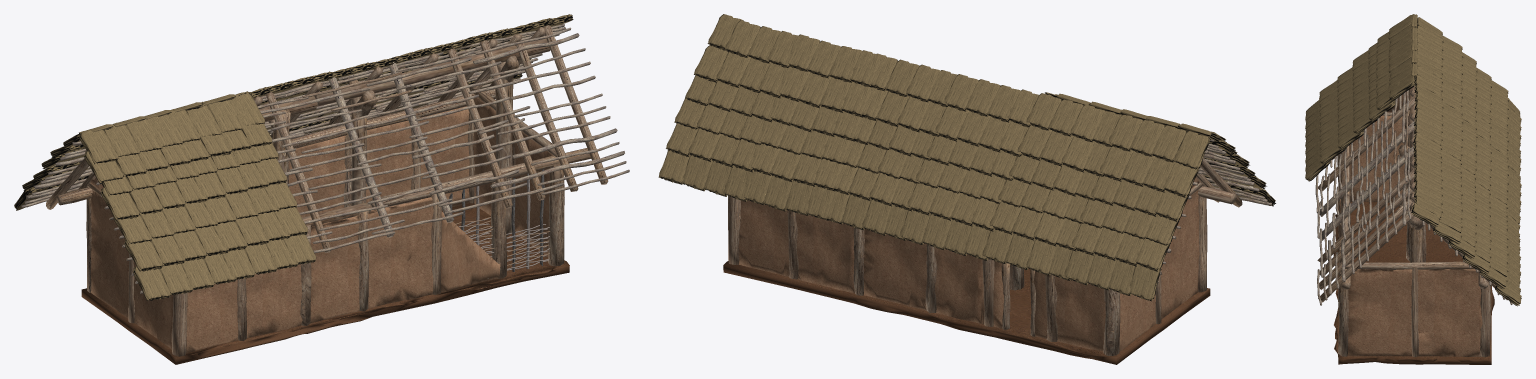
File: rekonstrukce-kj.glb
3 renders of one model, left to right at view 1: azimuth 30°, elevation 25°; view 2: azimuth 150°, elevation 25°; view 3: azimuth 270°, elevation 25°, orthographic. The views are drawn at different scales.
Parts seen in each view (by area): view 1: Cube.002, Cube.008, Cube.003, Cube.005, Cube.001, Cube, Cube.004, Cube.006, Cylinder.051, Cylinder.226, Cylinder.220, Cylinder.069 (+68 smaller); view 2: Cube.006, Cube.005, Cube.008, Cube.001, Cube.007, Cylinder.079, Plane.387, Cylinder.218, Plane.406, Plane.267, Cylinder.081, Plane.386 (+139 smaller); view 3: Cube, Cube.008, Cube.001, Cylinder.090, Cylinder.229, Cylinder.233, Cylinder.081, Cylinder.220, Cylinder.256, Cylinder.224, Cylinder.230, Cylinder.231 (+61 smaller).
Part boxes in pixels (left/top/right/bottom): Cube.002: left=310, top=197, right=433, bottom=322; Cube.008: left=81, top=203, right=569, bottom=364; Cube.003: left=186, top=264, right=302, bottom=352; Cube.005: left=366, top=106, right=469, bottom=207; Cube.001: left=90, top=190, right=172, bottom=349; Cube: left=472, top=94, right=553, bottom=256; Cube.004: left=441, top=211, right=500, bottom=292; Cube.006: left=289, top=135, right=345, bottom=217; Cylinder.051: left=314, top=38, right=550, bottom=106; Cylinder.226: left=370, top=148, right=591, bottom=209; Cylinder.220: left=548, top=163, right=564, bottom=266; Cylinder.069: left=290, top=89, right=495, bottom=148; Cube.006: left=863, top=228, right=984, bottom=324; Cube.005: left=738, top=200, right=854, bottom=293; Cube.008: left=723, top=261, right=1210, bottom=364; Cube.001: left=1119, top=190, right=1199, bottom=351; Cube.007: left=993, top=260, right=1105, bottom=351; Cylinder.079: left=1103, top=289, right=1120, bottom=355; Plane.387: left=1173, top=130, right=1209, bottom=169; Cylinder.218: left=1198, top=195, right=1207, bottom=292; Plane.406: left=724, top=20, right=760, bottom=57; Plane.267: left=1129, top=264, right=1161, bottom=301; Cylinder.081: left=728, top=195, right=740, bottom=264; Plane.386: left=1151, top=125, right=1186, bottom=162; Cube: left=1347, top=269, right=1482, bottom=356; Cube.008: left=1333, top=202, right=1494, bottom=364; Cube.001: left=1349, top=115, right=1406, bottom=202; Cylinder.090: left=1345, top=261, right=1474, bottom=269; Cylinder.229: left=1317, top=121, right=1414, bottom=216; Cylinder.233: left=1318, top=209, right=1413, bottom=302; Cylinder.081: left=1479, top=282, right=1491, bottom=357; Cylinder.220: left=1338, top=272, right=1348, bottom=356; Cylinder.256: left=1319, top=199, right=1412, bottom=289; Cylinder.224: left=1318, top=95, right=1415, bottom=191; Cylinder.230: left=1322, top=146, right=1413, bottom=240; Cylinder.231: left=1317, top=168, right=1414, bottom=263.
Size of the model in its own units: 12.89 by 5.33 by 5.92.
132 materials, 132 textured.
